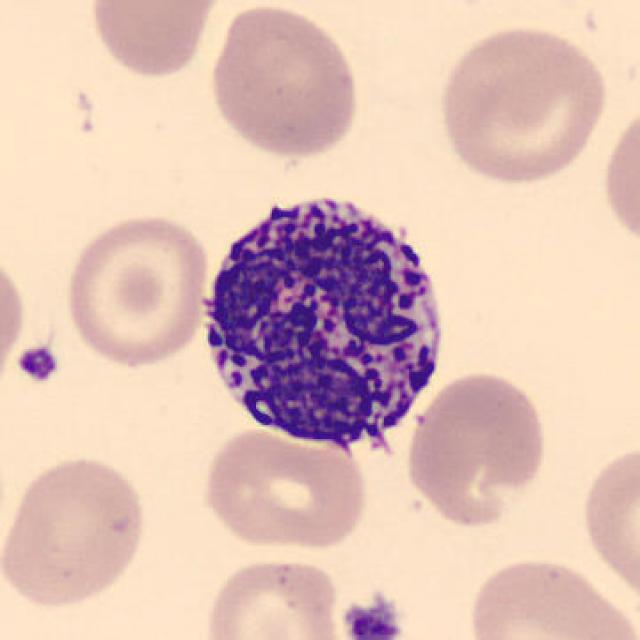Basophil: (187, 175, 460, 472)
Platelets: (338, 592, 407, 640), (12, 342, 62, 386)
RBC: (432, 19, 613, 189), (204, 2, 364, 160), (60, 208, 214, 370), (0, 452, 151, 614), (402, 365, 551, 527), (198, 423, 372, 554), (461, 552, 638, 640), (201, 552, 347, 640), (576, 435, 640, 612), (86, 0, 222, 81), (597, 97, 640, 259), (0, 245, 30, 391)
